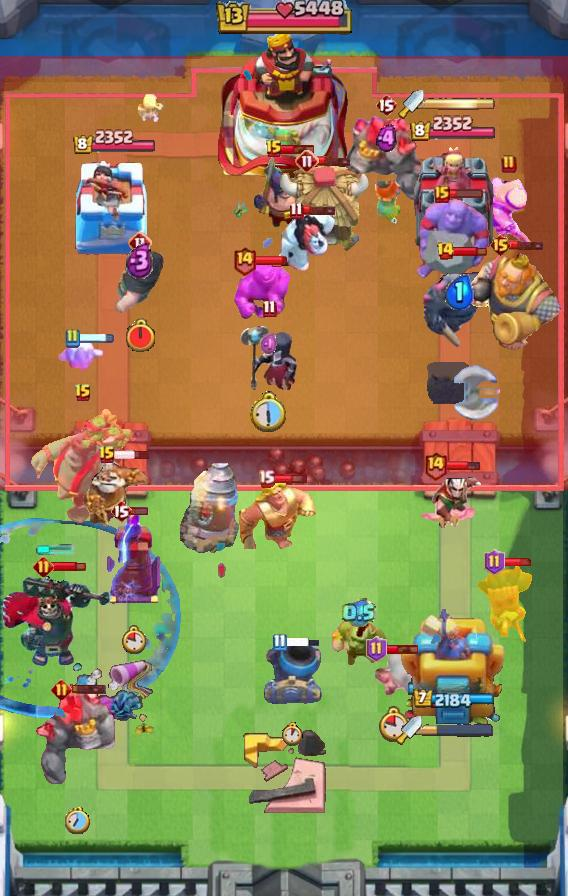archer-queen: (411, 196, 493, 284)
arrows: (487, 175, 532, 245)
baby-dragon: (427, 362, 471, 404)
bar: (401, 601, 505, 731), (409, 142, 497, 256)
cannoneer-tower: (32, 685, 122, 787), (341, 114, 431, 202)
clock: (214, 0, 354, 36)
electro-spirit: (444, 274, 474, 310), (126, 242, 154, 279), (342, 598, 376, 628), (375, 124, 396, 153), (260, 332, 280, 356)
elixir: (250, 391, 289, 433), (123, 318, 157, 354), (379, 706, 409, 742), (121, 626, 146, 655), (66, 807, 91, 834), (281, 722, 304, 746)
elixir-collector: (82, 456, 152, 528)
emote: (445, 459, 481, 472), (272, 471, 307, 484), (77, 332, 114, 344), (113, 449, 150, 461), (70, 683, 107, 695), (280, 143, 316, 155), (316, 155, 352, 167), (301, 204, 337, 216), (509, 239, 545, 251), (285, 636, 321, 648), (384, 643, 420, 655), (453, 245, 488, 257), (50, 560, 85, 572), (448, 189, 484, 200), (254, 255, 288, 266), (502, 557, 534, 567), (130, 506, 150, 516)
flying-machine: (330, 616, 388, 670)
giant-skeleton: (460, 250, 568, 354)
goblin-barrel: (475, 563, 535, 643)
goblin-hut: (239, 477, 317, 549)
golemite: (421, 253, 497, 349)
heal-spirit: (134, 93, 166, 125)
hog-rider: (370, 175, 408, 227)
ice-spirit: (36, 544, 76, 556)
ice-spirit-evolution-symbol: (104, 509, 164, 605)
inferno-tower: (0, 568, 114, 668)
king-tower: (218, 27, 350, 181)
king-tower-bar: (424, 97, 496, 111), (422, 723, 494, 737)
lava-hound: (30, 407, 136, 525)
magic-archer: (180, 462, 240, 554)
mirror: (56, 336, 106, 374)
monk: (253, 152, 315, 230)
musketeer: (262, 640, 322, 704)
pad_0: (1, 516, 184, 718)
prince: (276, 164, 370, 254)
queen-tower: (68, 158, 160, 256)
rage: (273, 209, 337, 275)
rascal-boy: (239, 322, 299, 394)
royal-giant: (451, 364, 507, 422)
royal-hog: (111, 244, 169, 316)
selected: (409, 115, 497, 143), (71, 128, 156, 155), (412, 689, 494, 711)
skeleton-king: (416, 468, 488, 528)
tesla: (370, 648, 418, 700)
text: (231, 245, 256, 276), (424, 450, 449, 481), (295, 149, 319, 173), (128, 231, 152, 255), (489, 233, 512, 257), (483, 549, 504, 575), (366, 636, 387, 662), (375, 93, 397, 117), (110, 499, 132, 523), (51, 679, 73, 700), (34, 555, 55, 576), (436, 241, 455, 261), (265, 139, 283, 159), (74, 383, 92, 403), (98, 445, 116, 465), (257, 469, 275, 487), (501, 154, 517, 174), (64, 328, 80, 348), (434, 185, 450, 203), (289, 201, 304, 219), (273, 633, 288, 651), (263, 299, 277, 317)
tornado: (234, 261, 290, 321)
